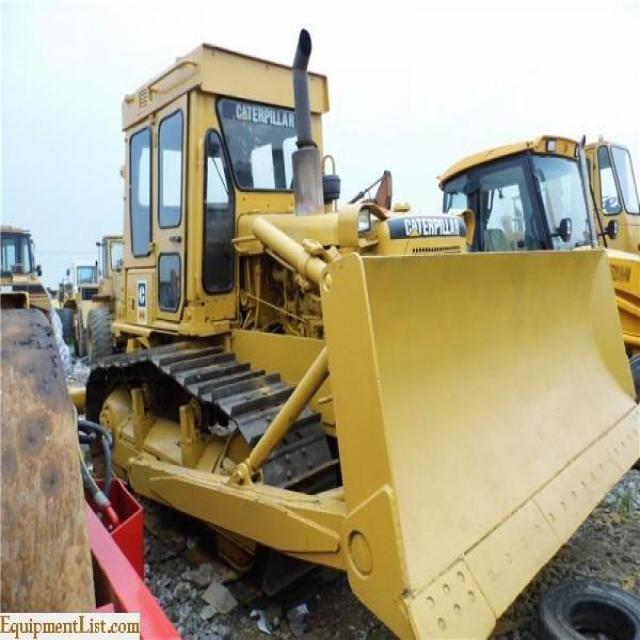Bulldozer: (66, 21, 637, 634)
